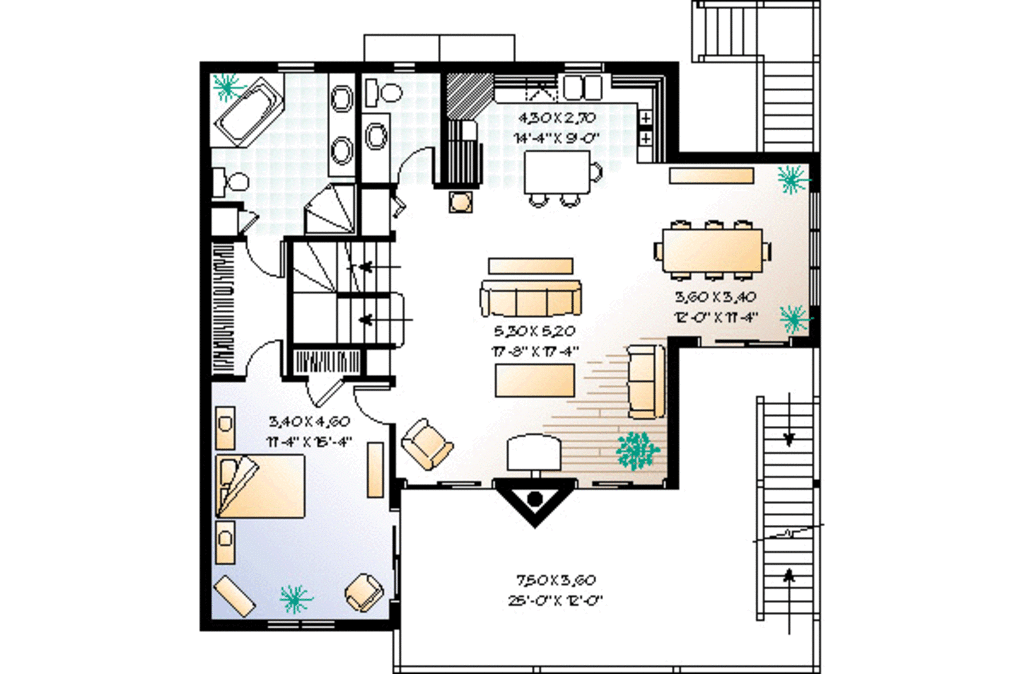bed: (214, 452, 309, 522)
dining_table: (651, 216, 772, 284)
door: (241, 238, 286, 282), (351, 384, 396, 428), (243, 338, 283, 380), (396, 147, 439, 184), (304, 376, 345, 411)
kitchen_bar: (520, 145, 604, 212)
large_sink: (211, 162, 251, 202), (363, 77, 404, 113)
large_sofa: (478, 276, 586, 325), (624, 342, 666, 423)
small_sink: (331, 74, 356, 174), (361, 114, 389, 179)
small_sofa: (398, 415, 454, 472), (341, 570, 386, 612)
stairs: (688, 1, 823, 154), (749, 394, 816, 625), (290, 238, 408, 349)
tub: (211, 77, 285, 147)
twin_sink: (559, 74, 606, 102)
windows: (804, 187, 826, 312), (262, 616, 335, 635)
